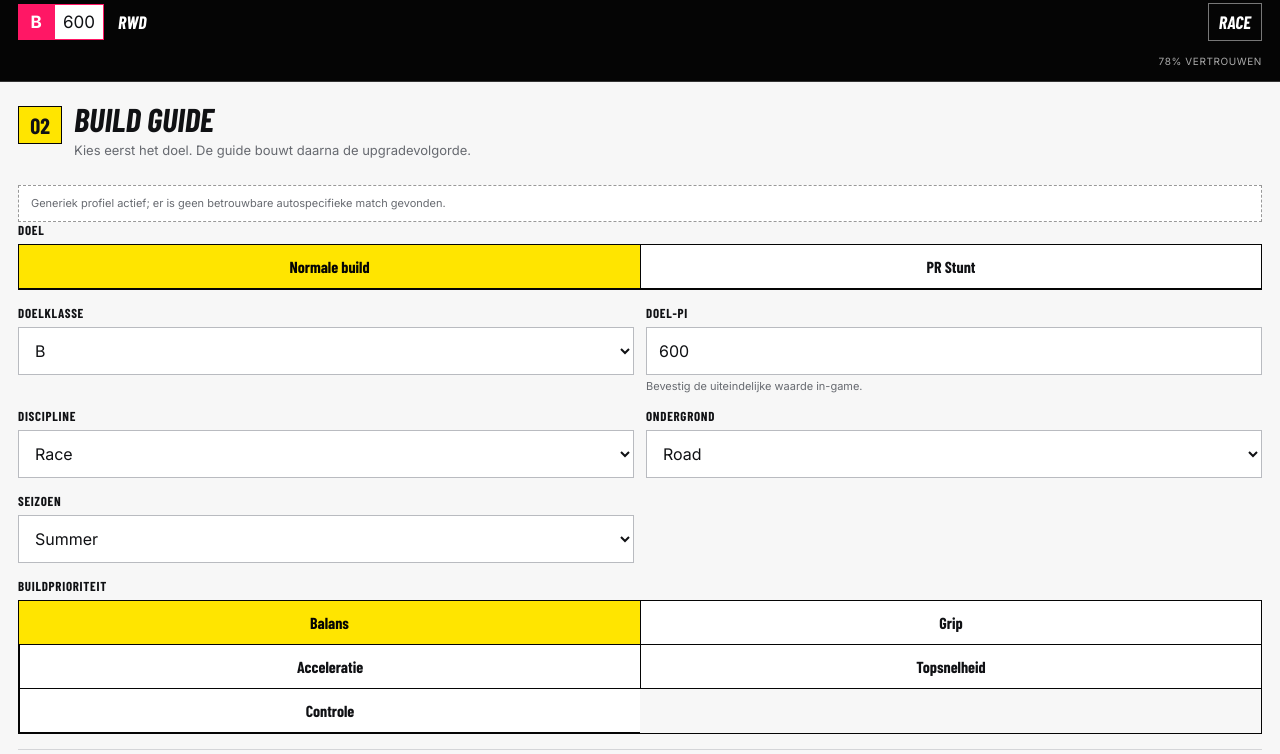
Test: BuildGuide UI › offers all PR Stunt types and shows technique guidance
The width and height of the screenshot is (1280, 754).
Expected: the text "Generiek profiel actief" is shown, [31,196,446,210]
Click the button "PR Stunt" at (950, 267), box [640,245,1261,289]
(page scrolled)
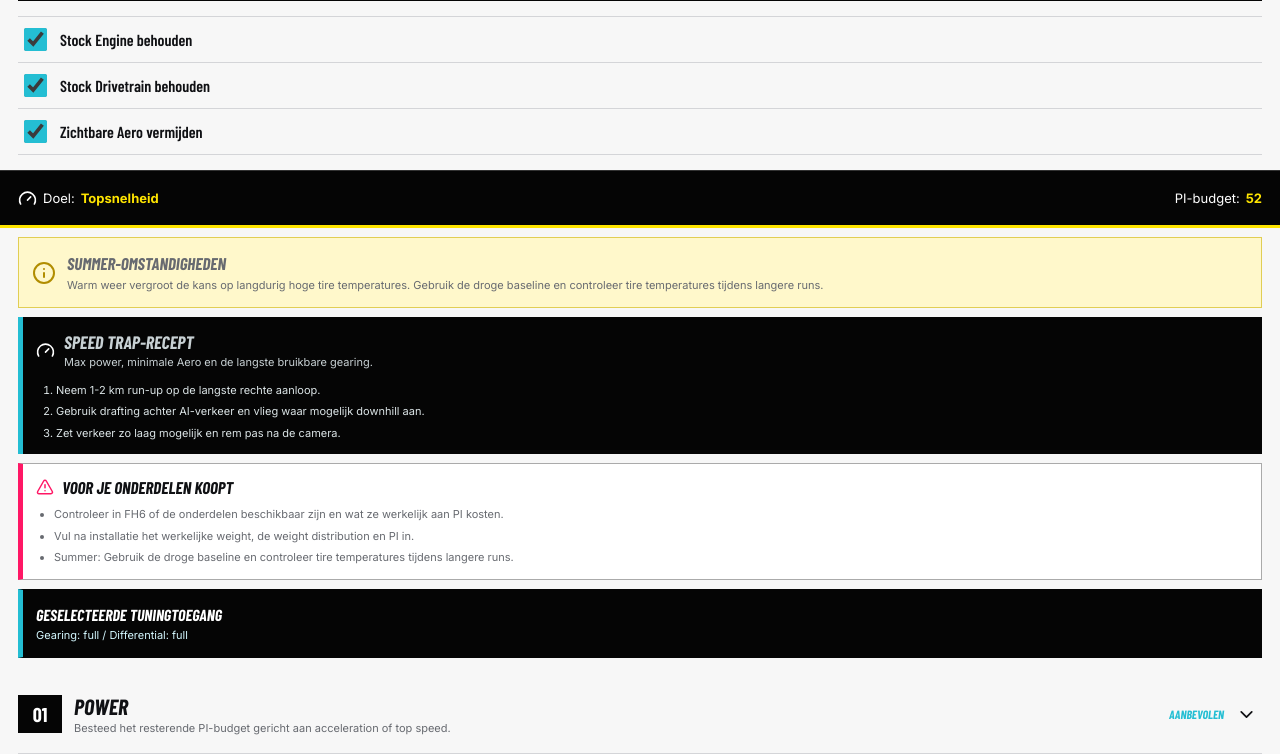
Now the text "Speed Trap-recept" is shown, box [64,331,194,353]
Now the list item "Neem 1-2 km run-up op de langste rechte aanloop." is shown, box [56,383,320,397]
